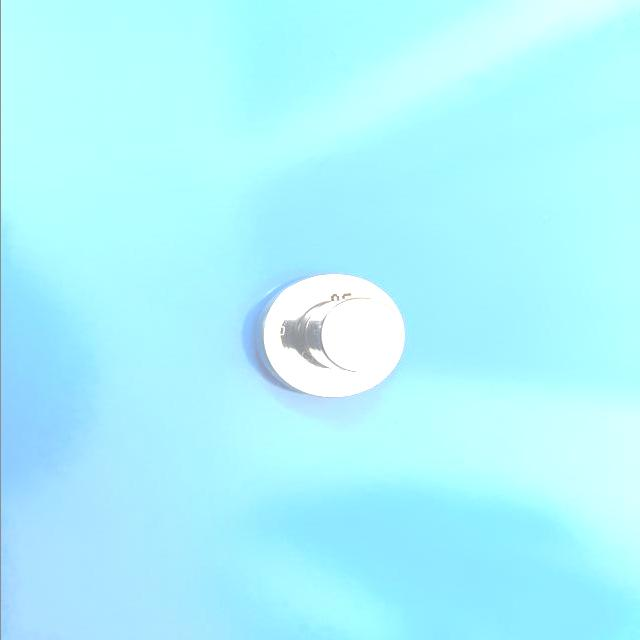COIN: (252, 270, 404, 400), (303, 297, 402, 374)
